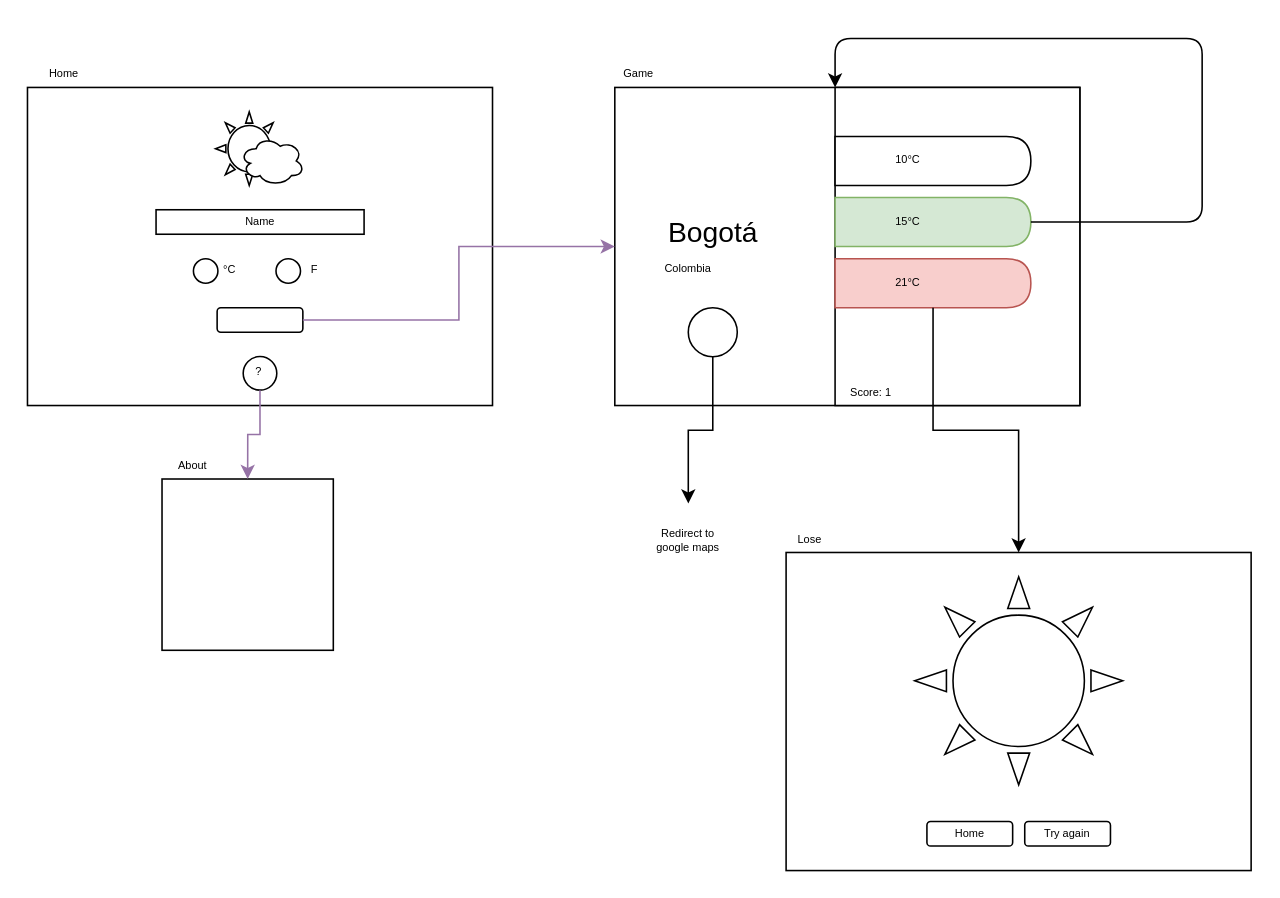
The diagram is 1280 pixels wide and 898 high, and some of its shapes have lost their labels. Here are the shapes that lost their labels. From the top down, the centre of each, then its label:
At (259,319): "start".
At (712,331): "ubi".
At (246,563): "Icons by Freepik Made with <3 by Ned".
At (1018,680): "Score 4".
